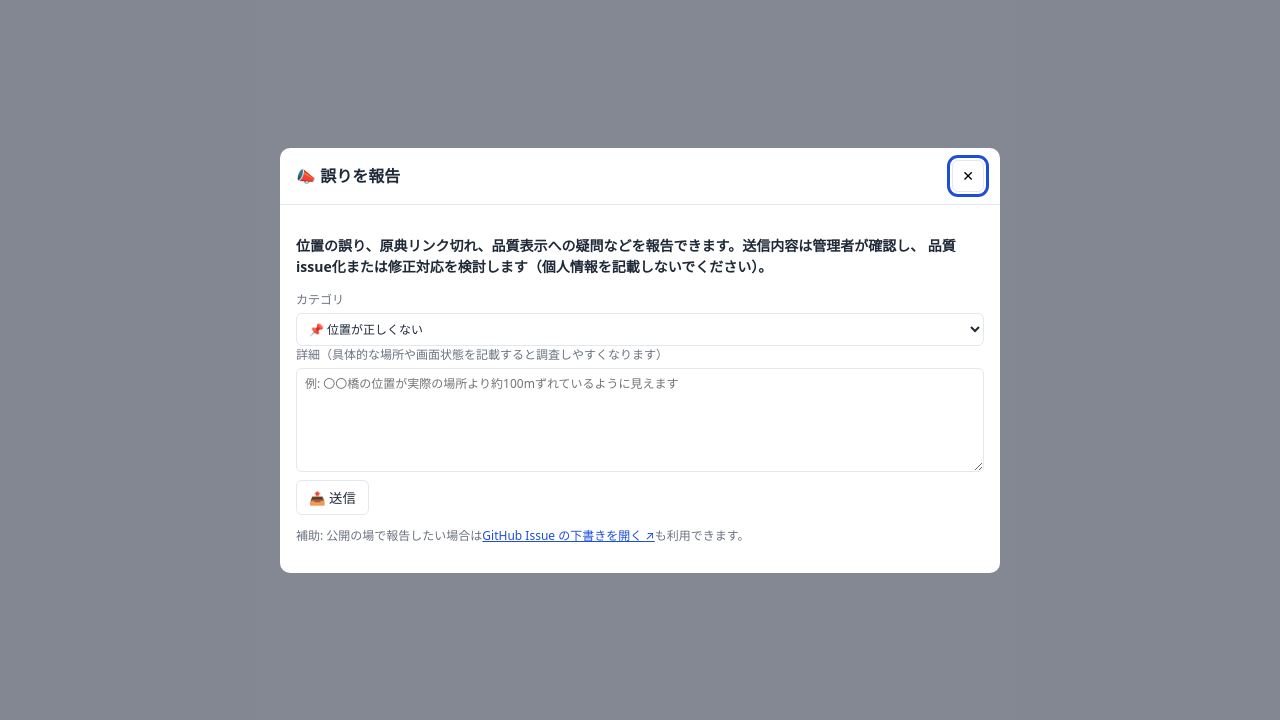
Test: FeedbackDialog › shows an error message when the submission fails
Type "失敗する報告" into the text box labelled "詳細（具体的な場所や画面状態を記載すると調査しやすくなります）" at {"x": 640, "y": 420}, box [296,368,984,472]
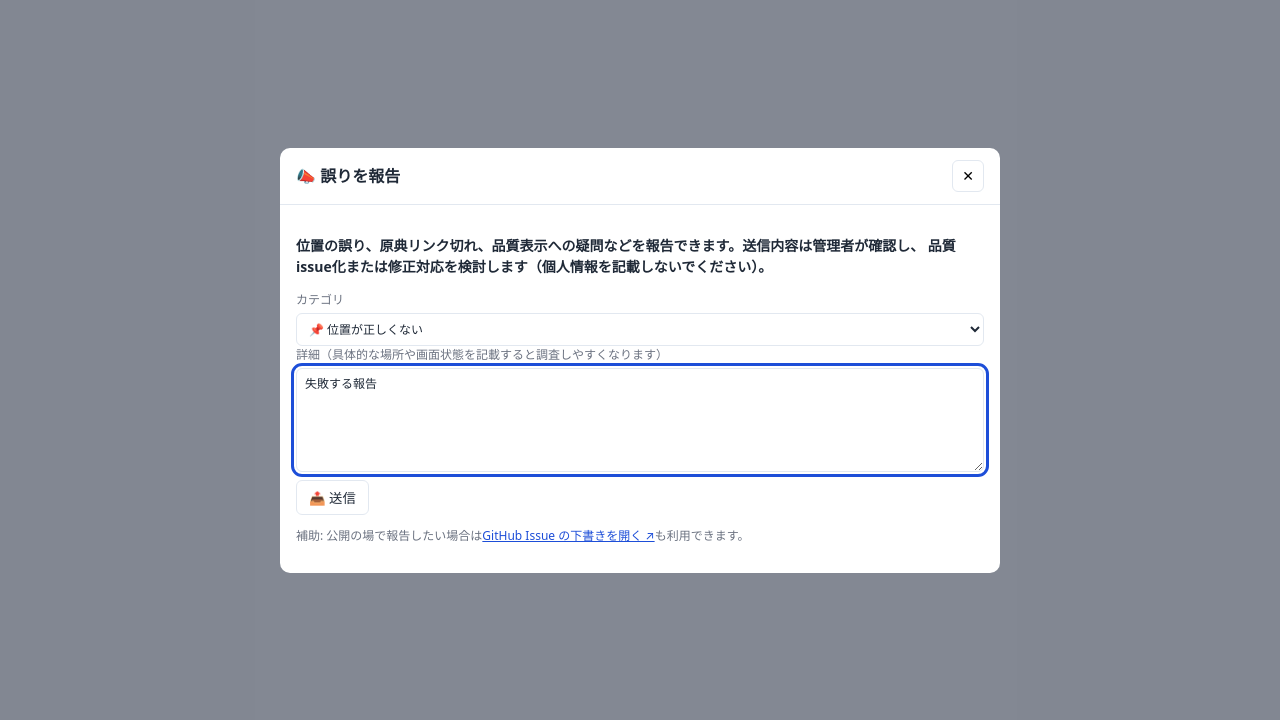
Click the button "📤 送信" at {"x": 332, "y": 497}, box [296,480,369,514]
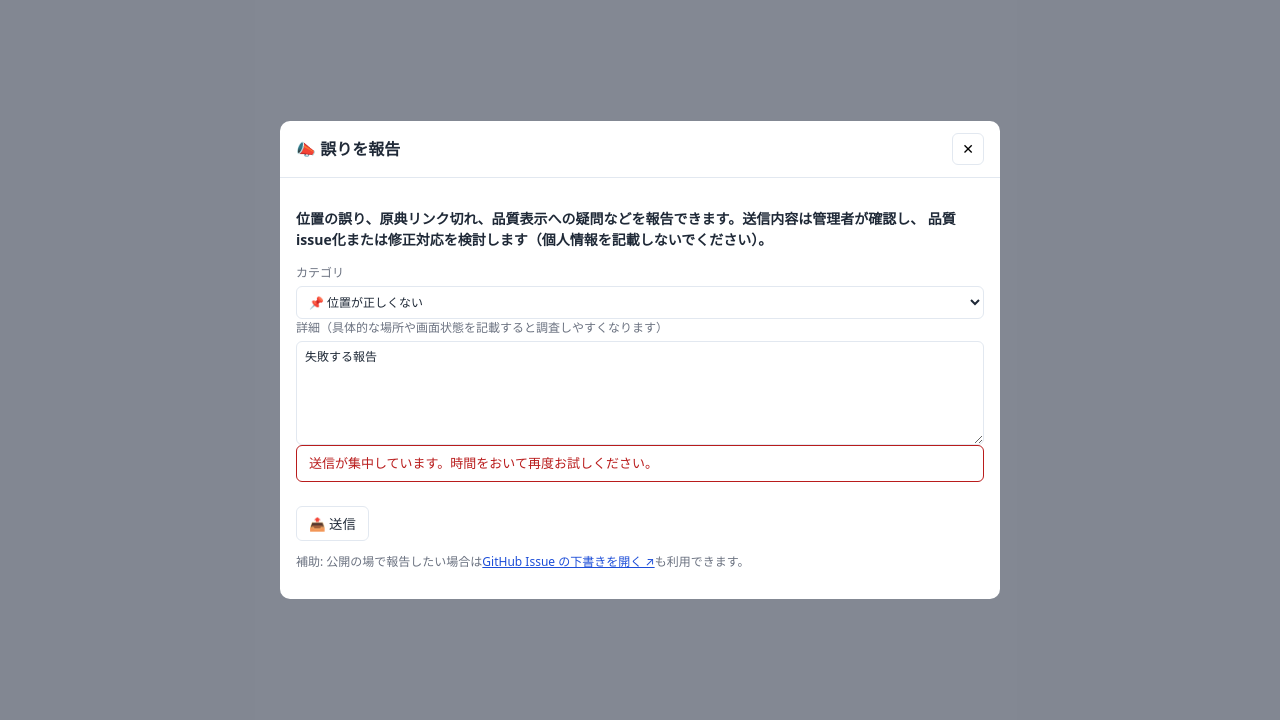
Result: the message shows "時間をおいて" at [309,454,658,472]
